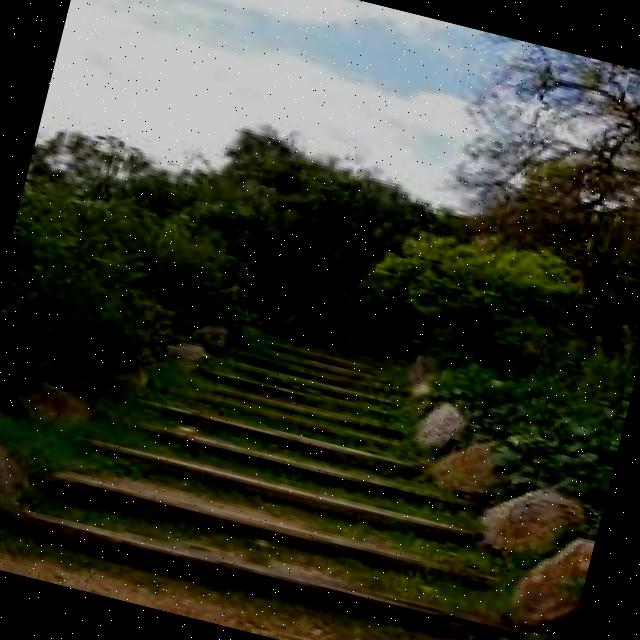stairs: (0, 206, 628, 640)
